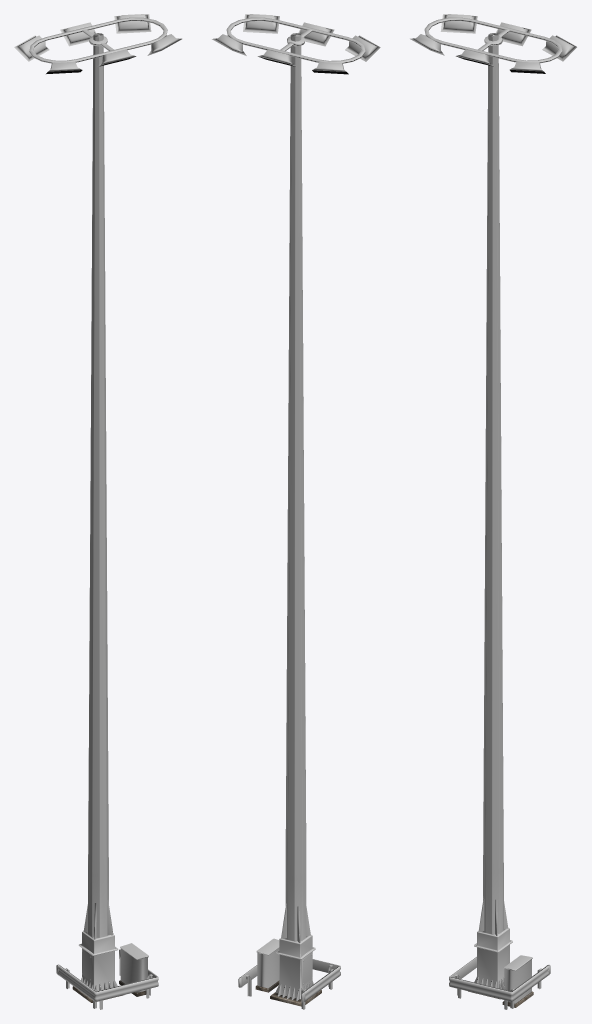
The model's file is scheinwerfer_mast_01.fbx.
The picture shows the model from 3 angles, left to right: view 1: azimuth 30°, elevation 25°; view 2: azimuth 150°, elevation 25°; view 3: azimuth 330°, elevation 25°; orthographic projection.
Parts seen in each view (by area): view 1: Mesh; view 2: Mesh; view 3: Mesh.
Boxes of the visible parts, x1,y1,x2,y2 form: Mesh: (14, 14, 181, 1009); Mesh: (212, 14, 380, 1009); Mesh: (410, 14, 576, 1009).
Bounding box in the file's own units: 536 × 3626 × 326.
